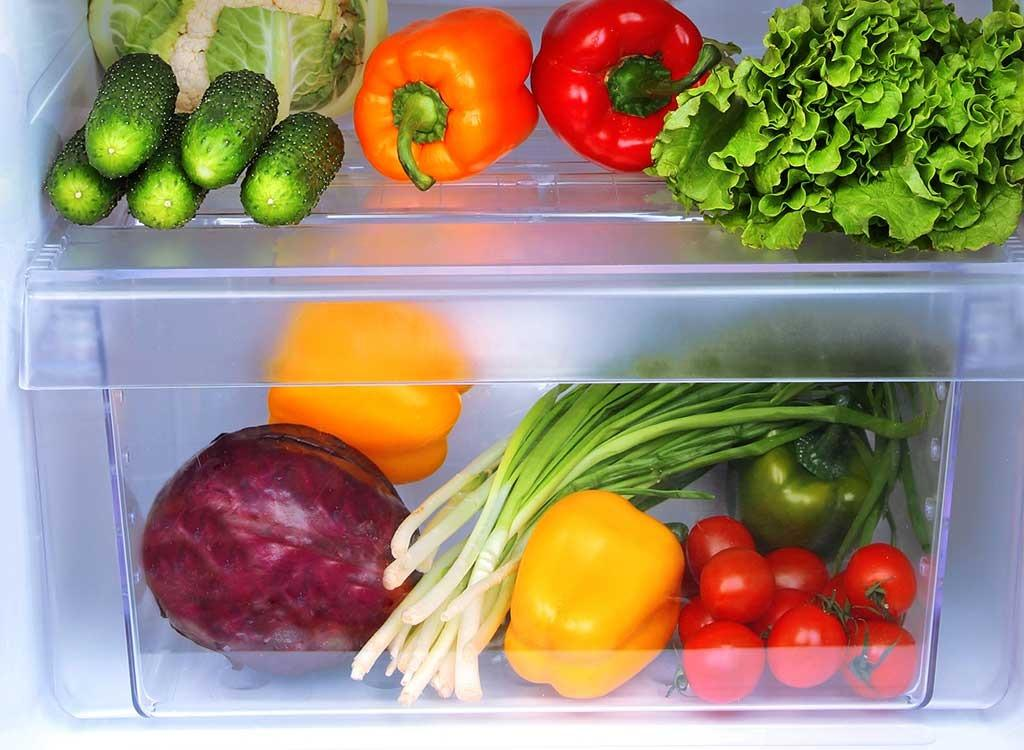bell pepper: (366, 3, 748, 204), (483, 467, 683, 695)
tomato: (694, 509, 924, 708)
